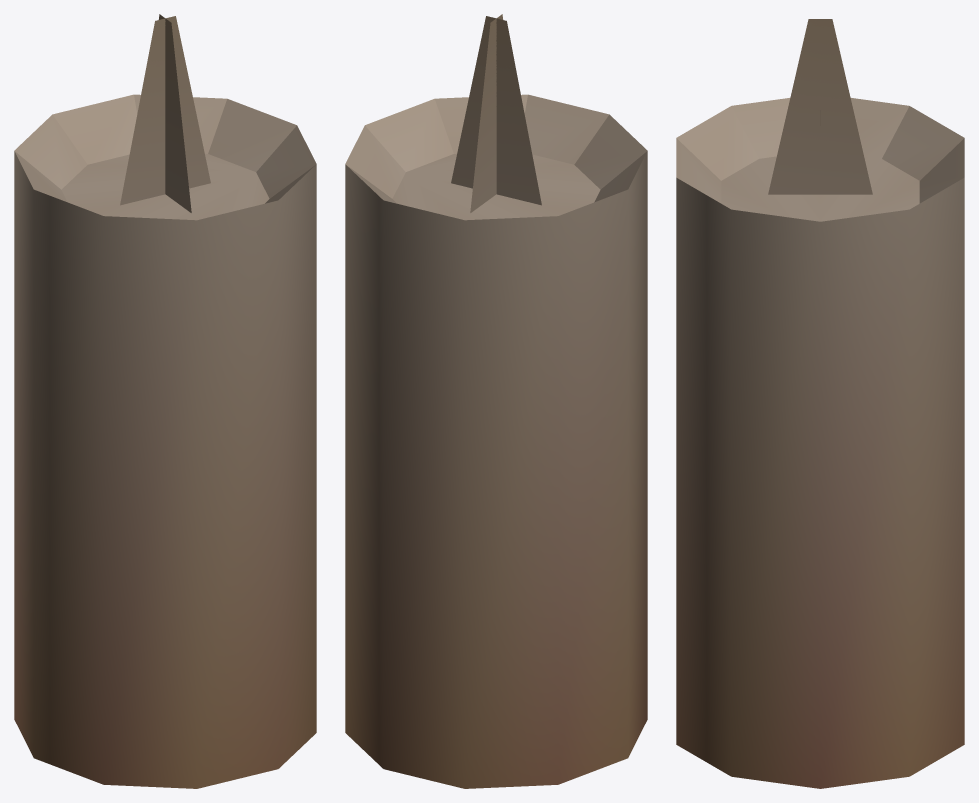
Rendered from Light_CandleC.fbx.
3 renders of one model, left to right at view 1: azimuth 30°, elevation 25°; view 2: azimuth 150°, elevation 25°; view 3: azimuth 270°, elevation 25°, orthographic.
Visible parts, largest first — view 1: Light_CandleC; view 2: Light_CandleC; view 3: Light_CandleC.
Part boxes in pixels (x1,y1,x2,y2): Light_CandleC: (14, 14, 316, 788); Light_CandleC: (345, 14, 647, 788); Light_CandleC: (676, 19, 964, 788).
Size of the model in its own units: 4.95 by 12.71 by 4.71.
